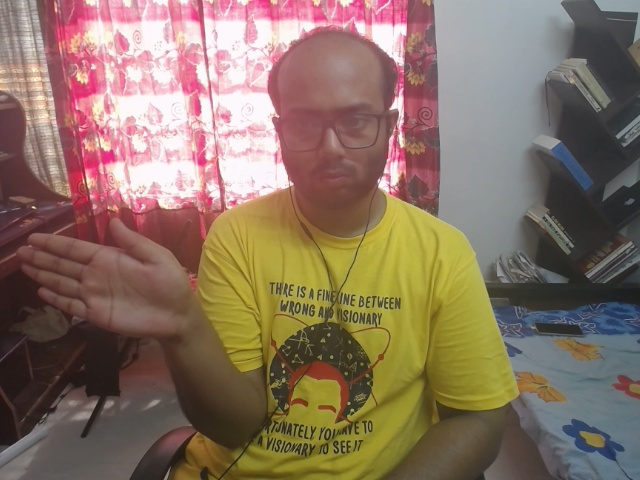south: (17, 200, 208, 346)
